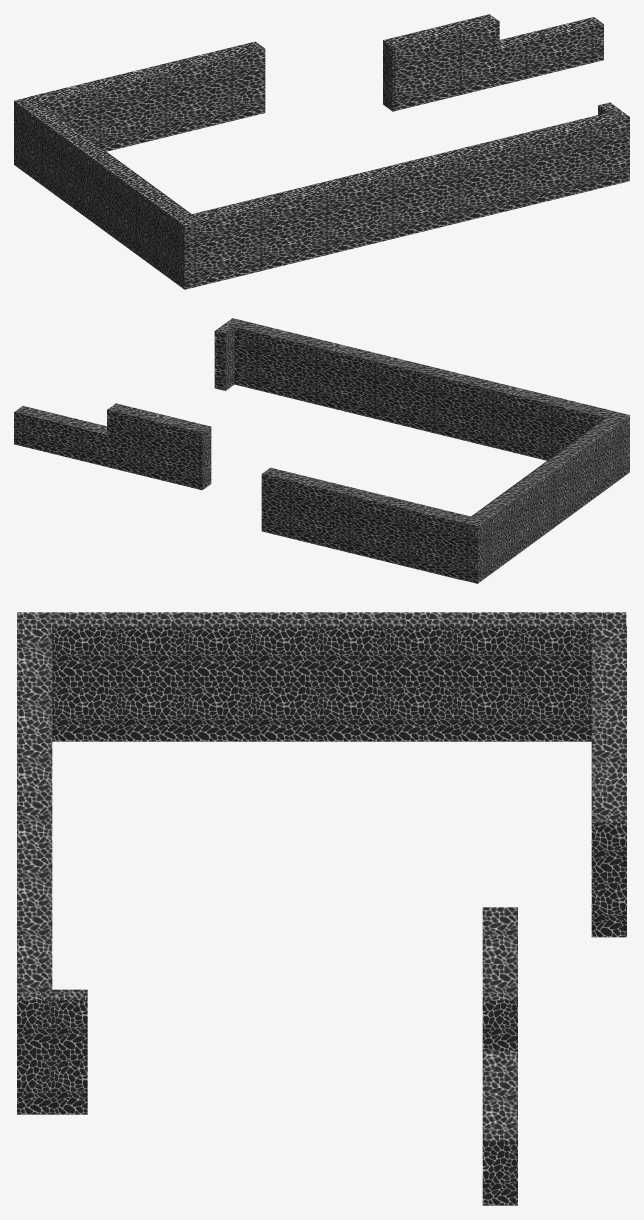
Rendered from Pared_negra.obj.
3 renders of one model, top to bottom at view 1: azimuth 30°, elevation 25°; view 2: azimuth 150°, elevation 25°; view 3: azimuth 270°, elevation 25°, orthographic. The views are drawn at different scales.
Parts seen in each view (by area): view 1: Box003; view 2: Box003; view 3: Box003.
Part boxes in pixels (<box>): Box003: <box>14,14,629,289</box>; Box003: <box>14,318,629,583</box>; Box003: <box>17,612,626,1205</box>.
Bounding box in the file's own units: 4481 × 500 × 2414.
